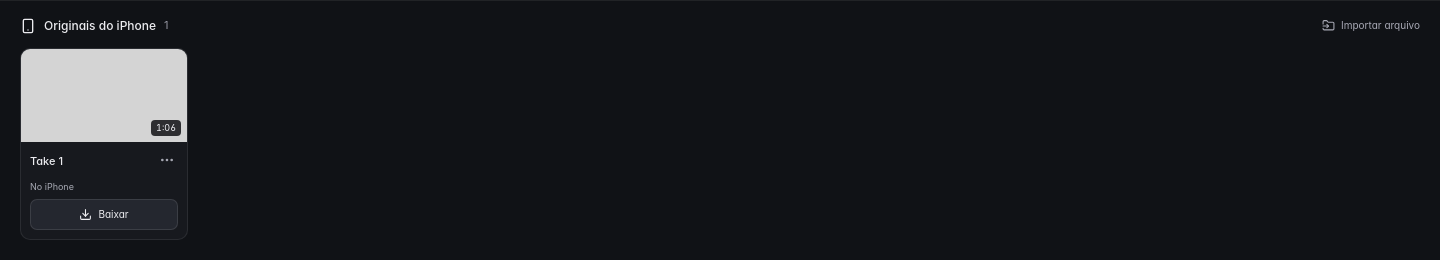
Test case: minicards de originais do iPhone › AirDrop fica no menu secundário, conserva takeId, recebe foco e fecha por Escape
Later steps or results of the test are not shown.
Click the button named "Mais opções do take 1" at (167, 160), box [156,149,178,171]
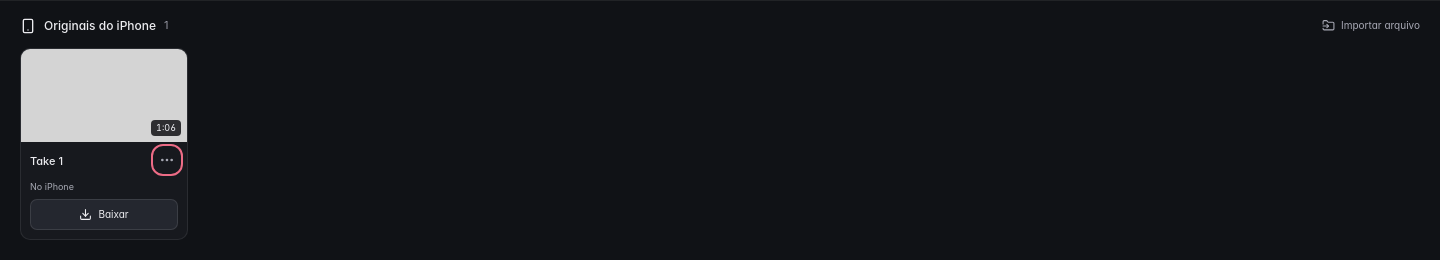
Click the button named "Mais opções do take 1" at (167, 160), box [156,149,178,171]
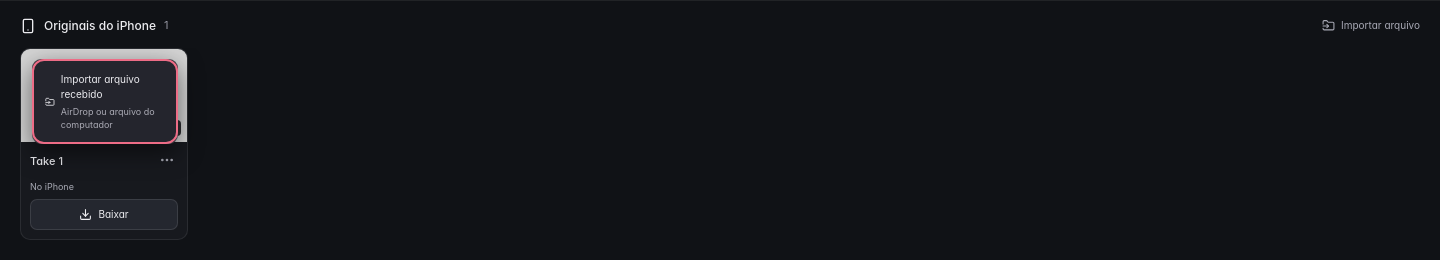
Now the menu item "Importar arquivo recebido AirDrop ou arquivo do computador" is shown
Click the menu item "Importar arquivo recebido AirDrop ou arquivo do computador" at (105, 102), box [37,64,173,139]
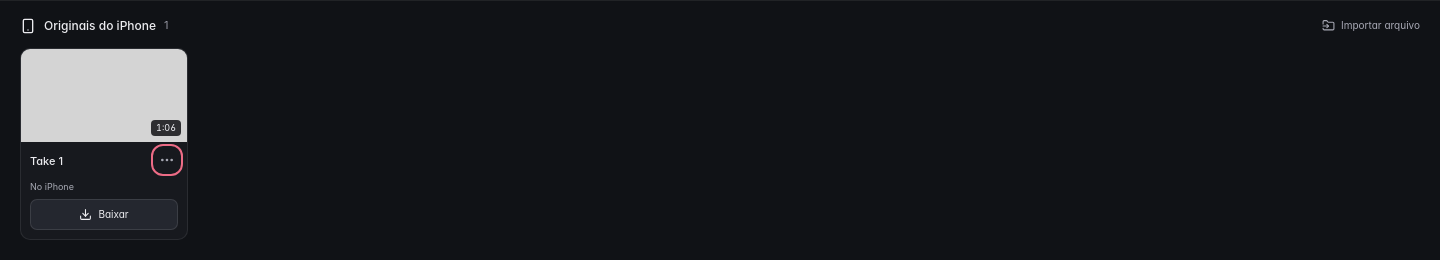
Now the menu is gone
